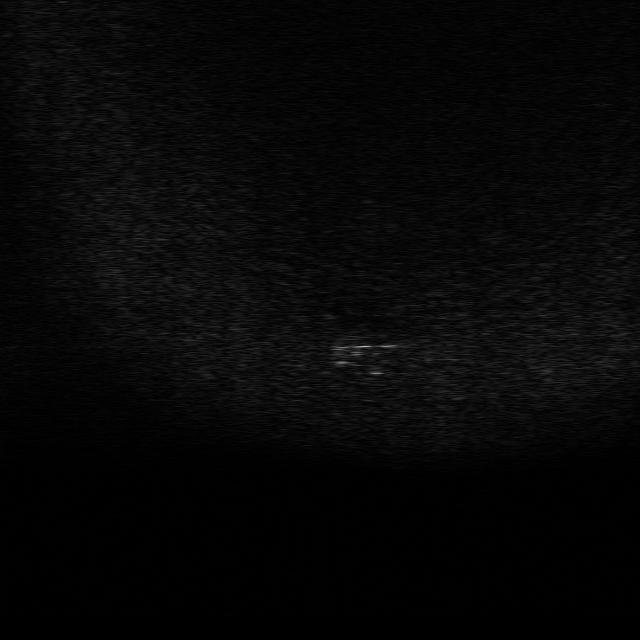plane: (322, 330, 410, 369)
